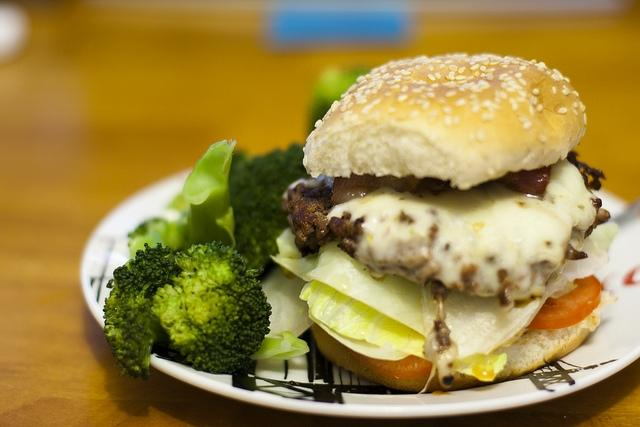broccoli: (152, 242, 272, 374), (102, 242, 184, 380), (228, 142, 312, 270), (182, 138, 236, 256), (307, 65, 369, 138)
lettuce: (270, 242, 424, 336), (300, 280, 430, 361), (308, 305, 412, 361), (184, 140, 236, 248), (260, 267, 316, 339)
tomato: (525, 274, 601, 330), (348, 348, 433, 379)
